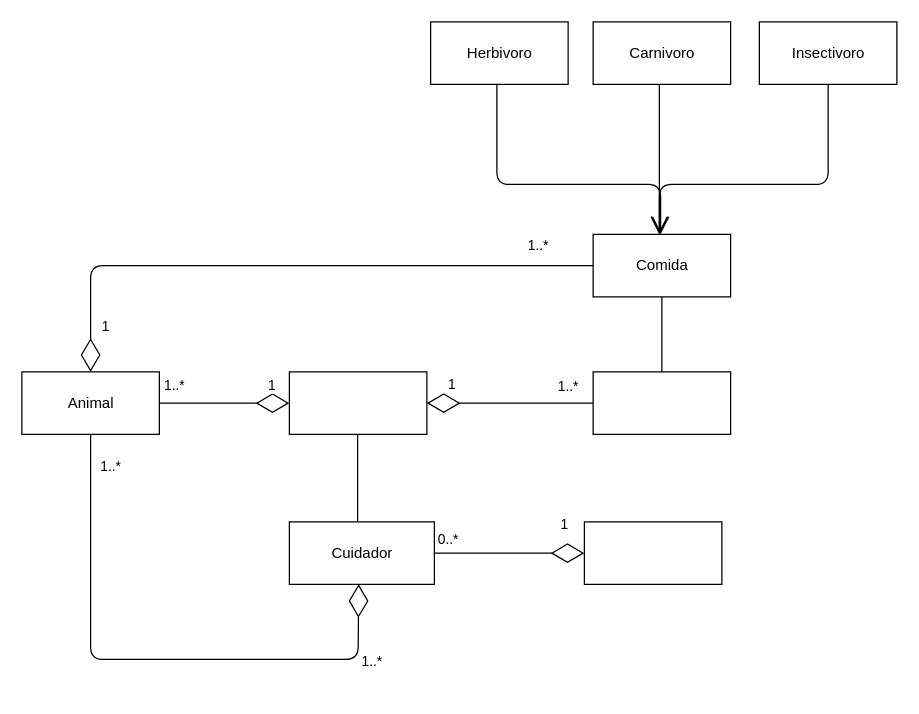
Image size: 919x714. Some labels were removed from this diagram. Each missing label, with the centre of its shape:
"Stock" belongs at (x=661, y=402).
"Vacaciones" belongs at (x=652, y=552).
"Zoo" belongs at (x=357, y=402).
